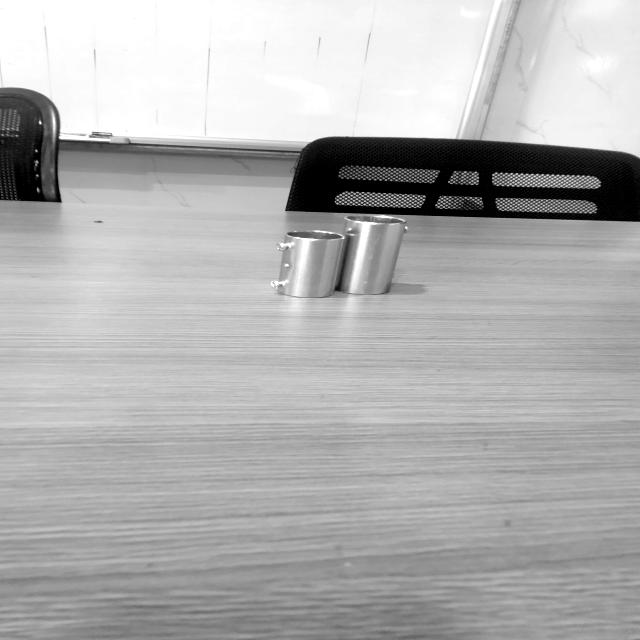Co_Lon: (337, 212, 408, 298)
Co_Nho: (270, 225, 345, 302)
